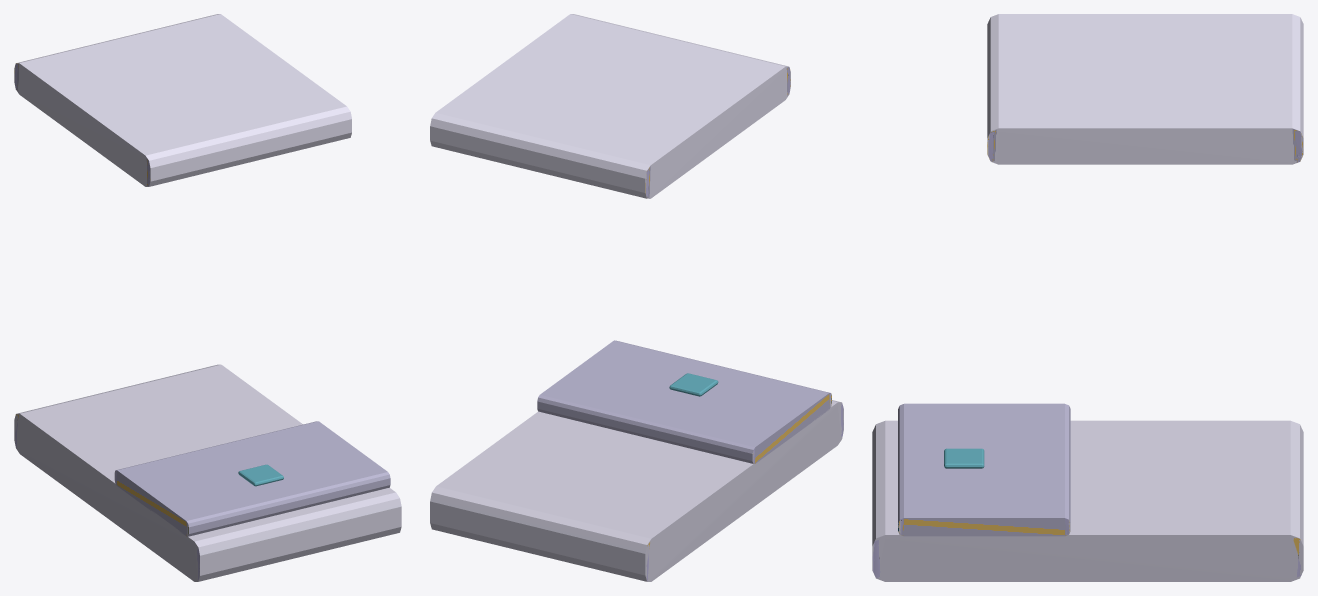
The model's file is SM_ModularShelf_MiddleSection1.fbx.
The picture shows the model from 3 angles, left to right: view 1: azimuth 30°, elevation 25°; view 2: azimuth 150°, elevation 25°; view 3: azimuth 270°, elevation 25°; orthographic projection. The views are drawn at different scales.
Parts seen in each view (by area): view 1: SM_ModularShelf_MiddleSection1; view 2: SM_ModularShelf_MiddleSection1; view 3: SM_ModularShelf_MiddleSection1.
Boxes of the visible parts, x1,y1,x2,y2 form: SM_ModularShelf_MiddleSection1: (14, 14, 401, 581); SM_ModularShelf_MiddleSection1: (430, 14, 843, 581); SM_ModularShelf_MiddleSection1: (872, 14, 1303, 581).
Bounding box in the file's own units: 0.94 × 1.74 × 1.5.
